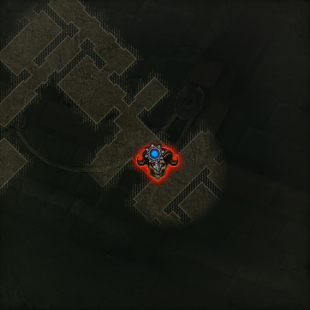Guardian: (130, 142, 180, 182)
